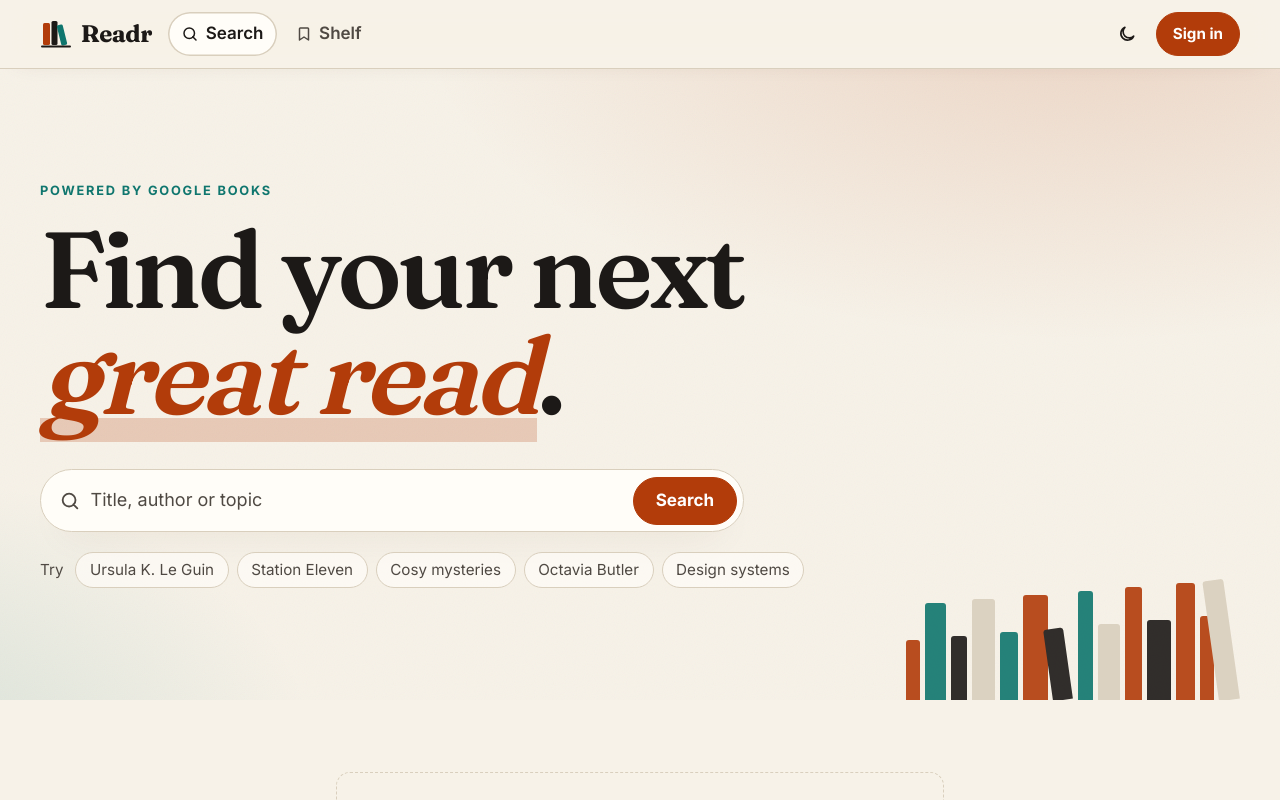
Test: Auth dialog › implements the ARIA tabs pattern with arrow keys
Click the button "Sign in". click: (1198, 34)
box: [1156, 12, 1240, 56]
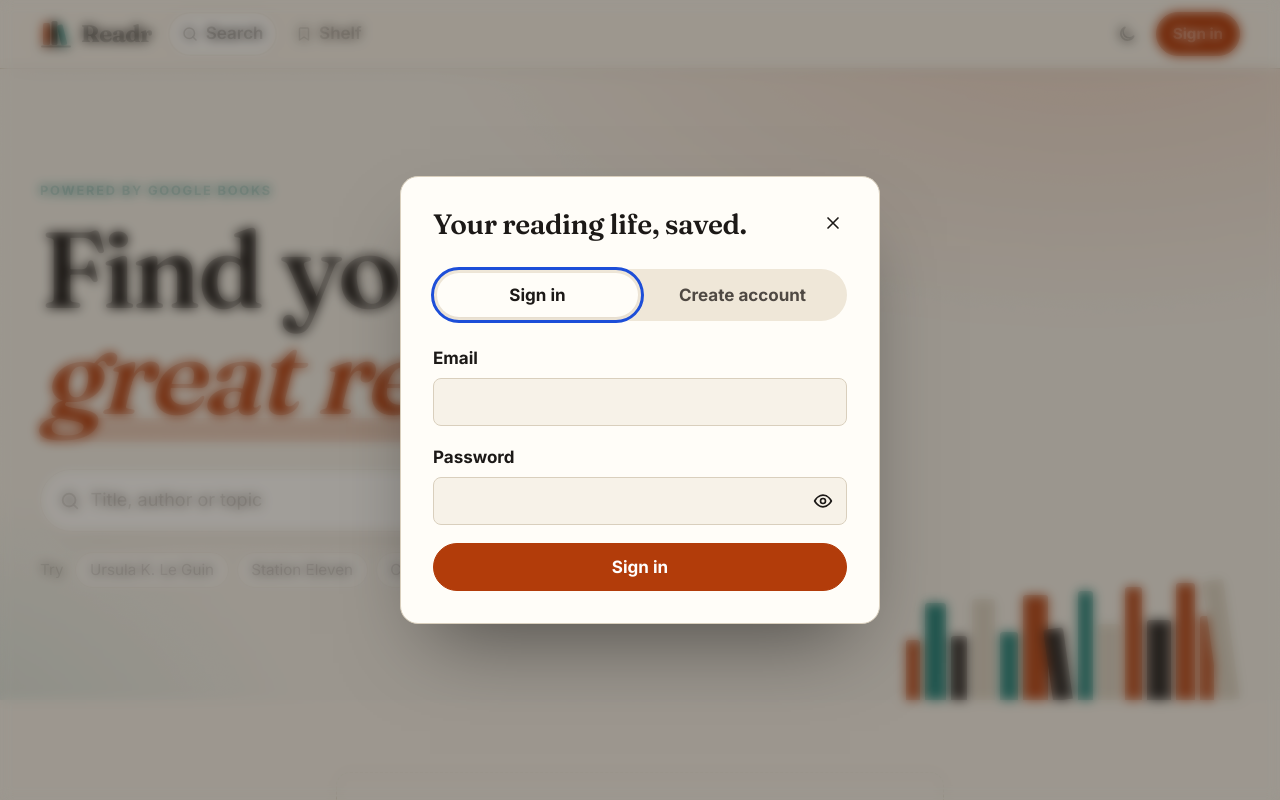
Press Arrowright
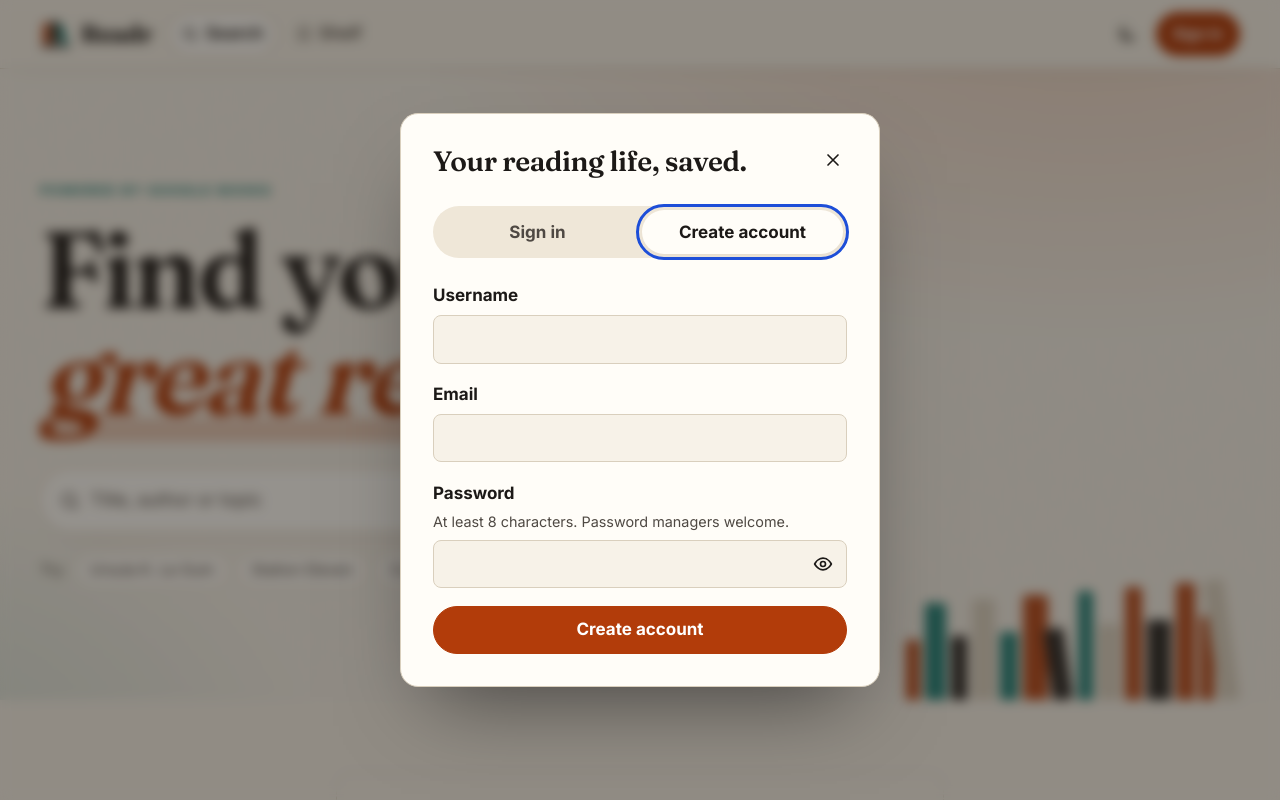
Expected: the panel named "Create account" is shown, [433, 282, 847, 654]
